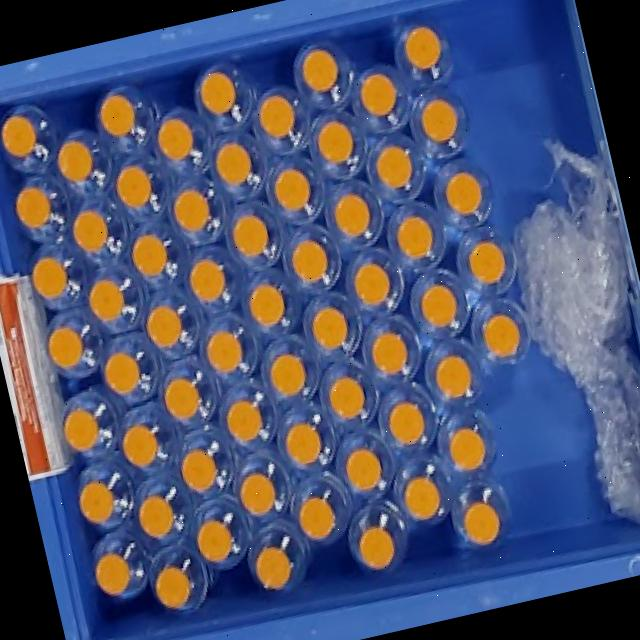vials: (403, 475, 441, 520), (371, 330, 408, 375), (388, 400, 425, 445), (298, 495, 335, 540), (463, 500, 500, 545), (316, 120, 354, 163), (333, 193, 371, 236), (199, 70, 236, 114), (301, 48, 338, 92), (258, 94, 295, 138), (360, 72, 397, 116), (215, 141, 252, 185), (420, 98, 457, 142), (375, 144, 412, 188), (232, 213, 269, 257), (468, 240, 505, 284), (420, 283, 457, 327), (483, 313, 520, 357), (328, 375, 365, 419), (239, 471, 276, 515), (345, 447, 382, 491), (255, 545, 292, 589), (358, 525, 395, 569), (404, 26, 441, 69), (274, 167, 311, 210), (445, 171, 482, 214), (189, 259, 226, 302), (396, 215, 433, 258), (103, 351, 140, 394), (311, 306, 348, 349), (269, 352, 306, 395), (285, 422, 322, 465), (154, 565, 191, 608), (181, 448, 217, 492), (138, 494, 174, 538), (449, 426, 484, 471), (173, 188, 210, 230), (88, 278, 125, 320), (121, 424, 158, 466), (196, 519, 233, 561), (157, 117, 193, 160), (116, 165, 152, 208), (131, 233, 167, 276), (292, 239, 328, 282), (146, 304, 182, 347), (248, 283, 284, 326), (354, 262, 390, 305), (206, 330, 242, 373), (15, 185, 50, 229), (226, 400, 263, 441), (57, 140, 93, 182), (72, 209, 108, 251), (32, 256, 68, 298), (435, 355, 471, 397), (1, 115, 36, 158), (63, 408, 98, 451), (164, 377, 199, 420), (95, 552, 130, 595), (100, 94, 135, 136), (48, 326, 83, 368), (79, 481, 114, 521)
